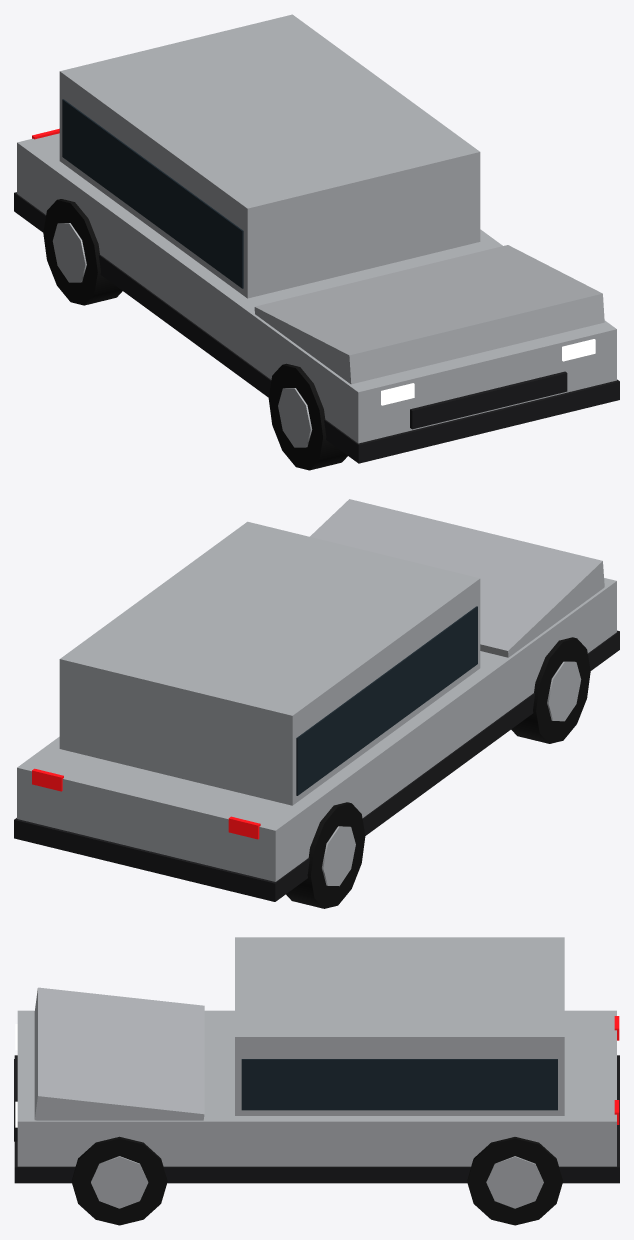
File: car_hatch.glb
The picture shows the model from 3 angles, top to bottom: view 1: azimuth 30°, elevation 25°; view 2: azimuth 150°, elevation 25°; view 3: azimuth 270°, elevation 25°; orthographic projection. The views are drawn at different scales.
Parts seen in each view (by area): view 1: body, wheel_RR, wheel_FR; view 2: body, wheel_RR, wheel_FR; view 3: body, wheel_FL, wheel_RL.
Part boxes in pixels (x1=…): body: x1=14, y1=14, x2=619, y2=463; wheel_RR: x1=43, y1=199, x2=122, y2=305; wheel_FR: x1=268, y1=363, x2=347, y2=470; body: x1=14, y1=499, x2=619, y2=901; wheel_RR: x1=286, y1=802, x2=365, y2=908; wheel_FR: x1=511, y1=637, x2=590, y2=743; body: x1=14, y1=937, x2=619, y2=1183; wheel_FL: x1=71, y1=1136, x2=167, y2=1225; wheel_RL: x1=467, y1=1137, x2=562, y2=1225.
Bounding box in the file's own units: 1.83 × 1.33 × 4.05.
